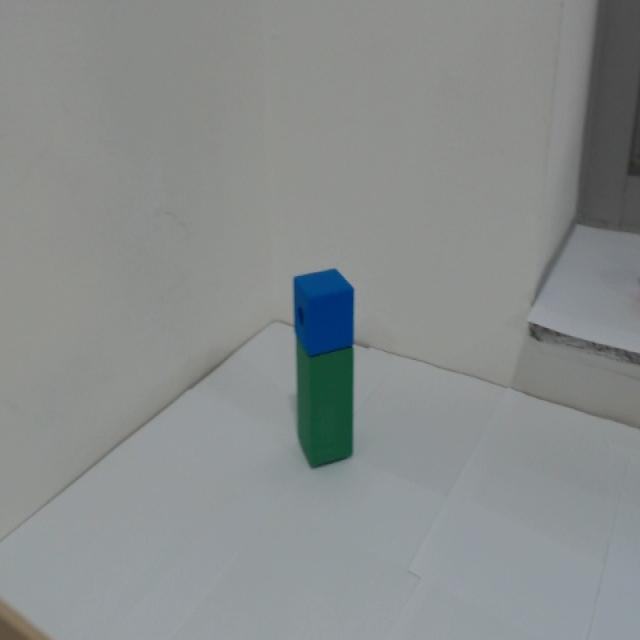cube: (283, 253, 363, 345)
